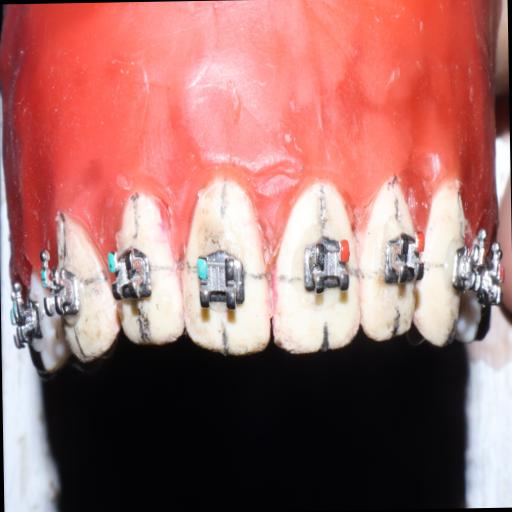incorrect_brace: (194, 244, 250, 320), (297, 234, 353, 306)
